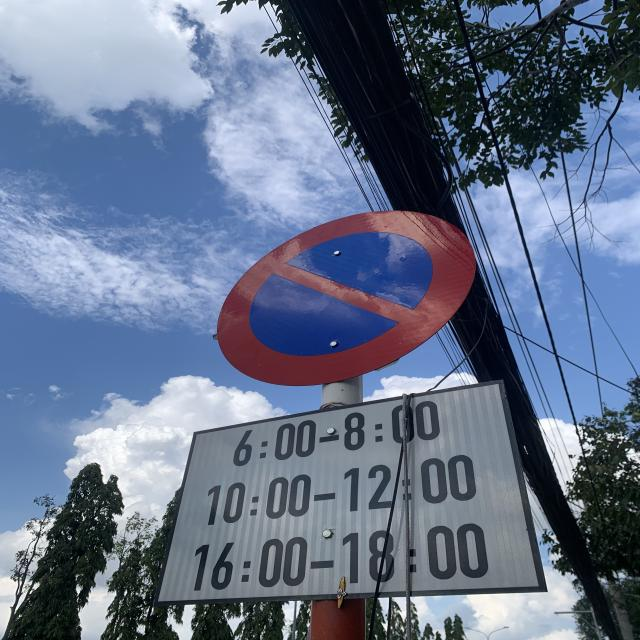Cam_Dau_Xe: (216, 210, 476, 389)
